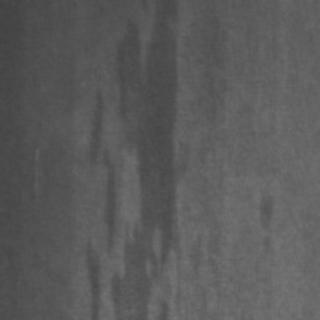inclusion: (84, 15, 182, 315), (250, 187, 278, 249)
